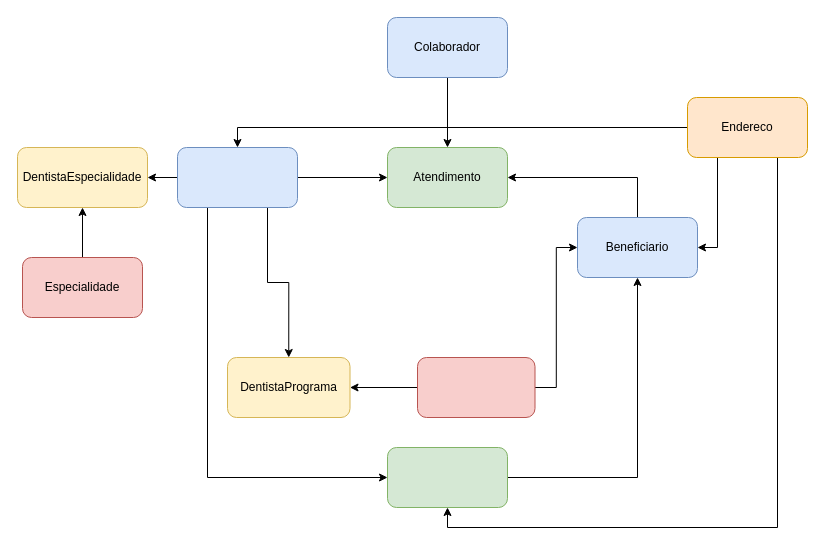
The diagram is 825 pixels wide and 553 high, and some of its shapes have lost their labels. Each missing label, with the box of its shape:
Dentista: (176, 146, 298, 208)
PedidoAjuda: (386, 446, 508, 508)
ProgramaSocial: (416, 356, 535, 418)
